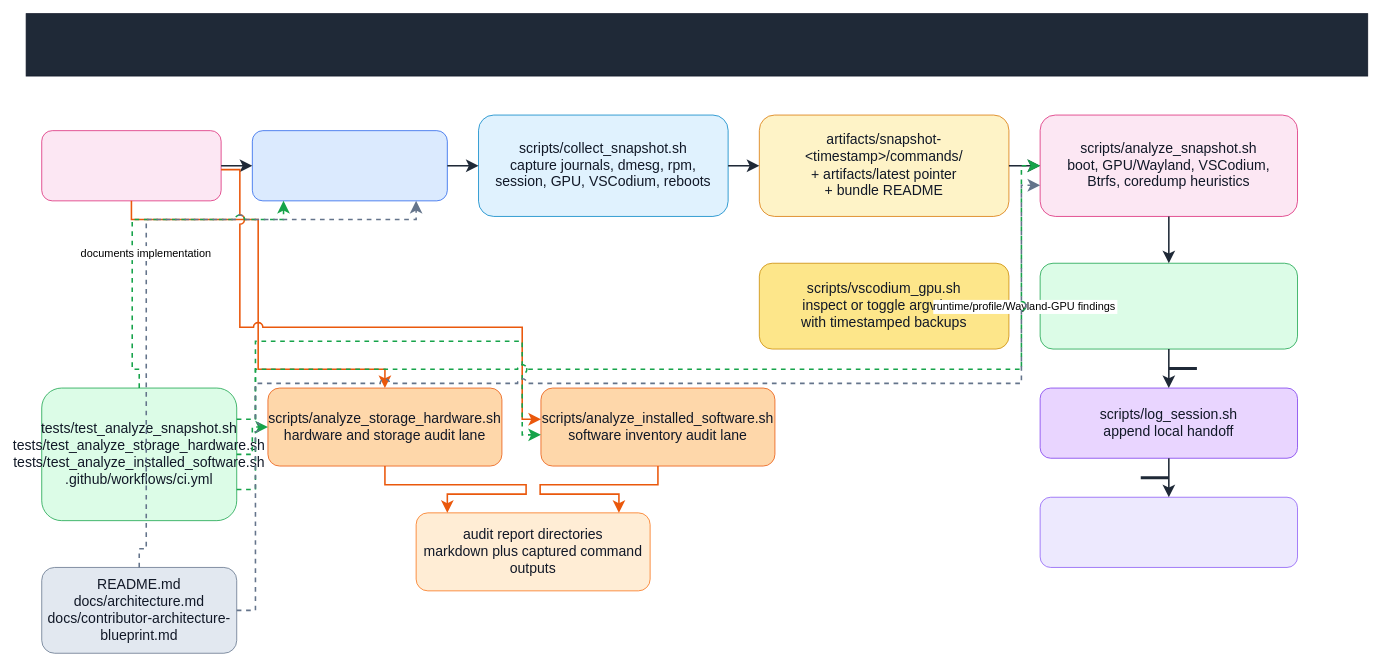
Image size: 1381x667. Some labels were removed from this diagram. The shapes that lost their labels are listed below. From the top down, each one's centre as x and y in pixels, then its label:
At point 696,44: "fedora-debugg Crash Triage Architecture".
At point 131,165: "Operator / Agent runs incident workflow".
At point 349,165: "scripts/run_workflow.sh stable entrypoint".
At point 1168,305: "analysis-summary.md collection health, resume context, triage findings".
At point 1168,531: "CHATHISTORY.md repo-local incident timeline".
